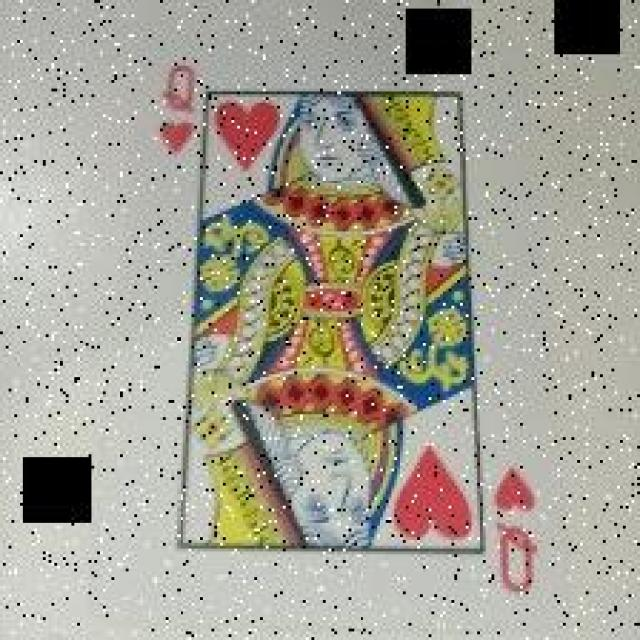Queen of hearts: (134, 52, 556, 597)
